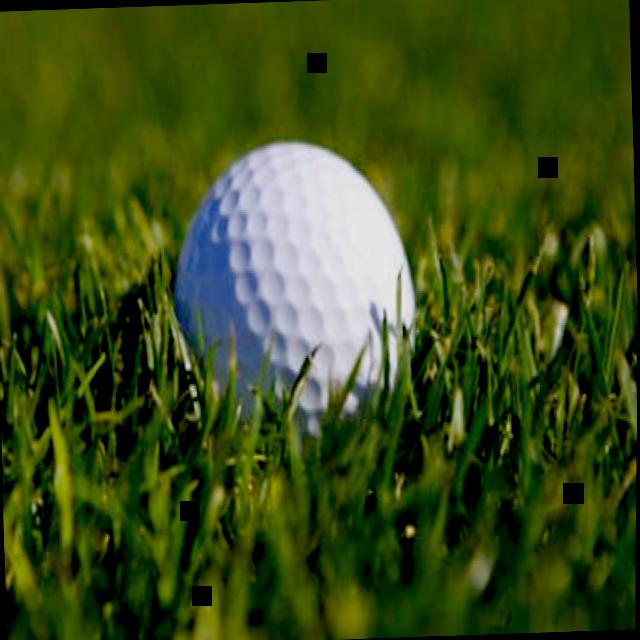golf ball: (165, 124, 428, 430)
